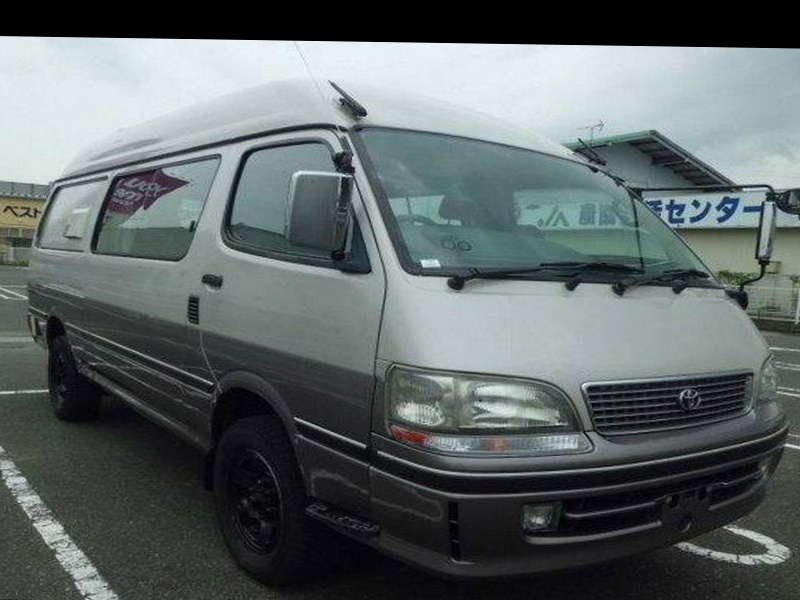van: (7, 81, 800, 583)
